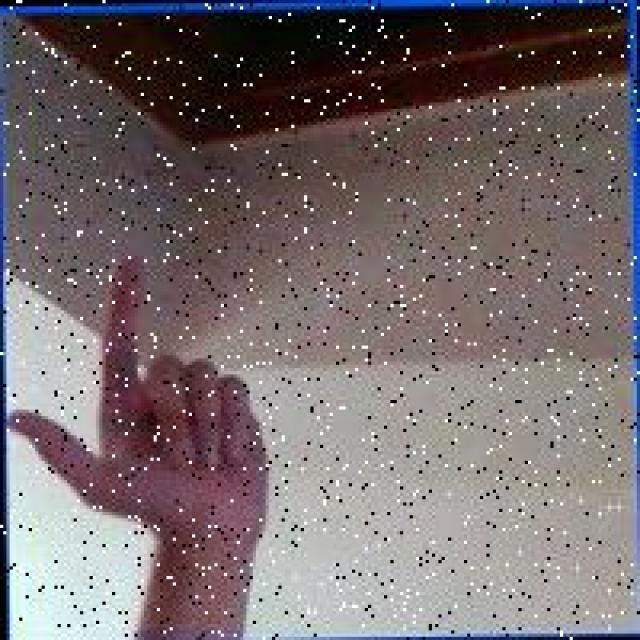L: (5, 248, 277, 606)
